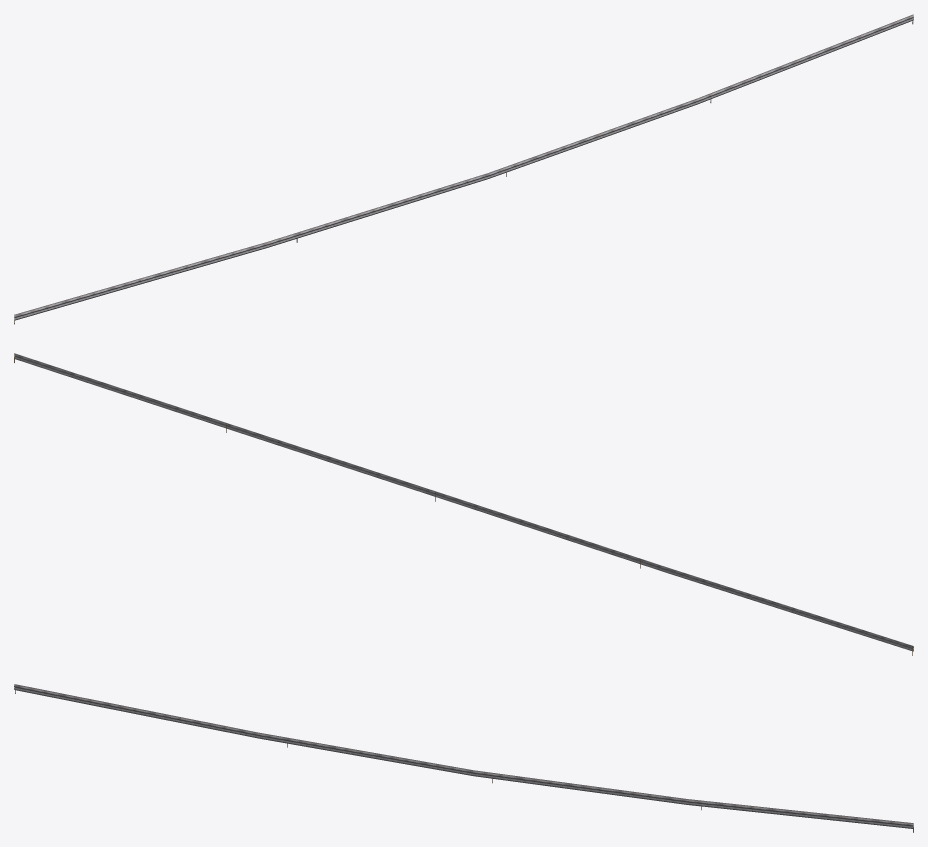
The model's file is sfn_crashbar04.obj.
3 views of the same model, one above another, from view 1: azimuth 30°, elevation 25°; view 2: azimuth 150°, elevation 25°; view 3: azimuth 330°, elevation 25° (orthographic).
Parts seen in each view (by area): view 1: sfn_crashbar04; view 2: sfn_crashbar04; view 3: sfn_crashbar04.
Part boxes in pixels (x1,y1,x2,y2): sfn_crashbar04: (14, 14, 913, 324); sfn_crashbar04: (14, 353, 913, 655); sfn_crashbar04: (14, 684, 913, 832).
Size of the model in its own units: 112 by 10.31 by 2.15.
2 materials, 2 textured.
